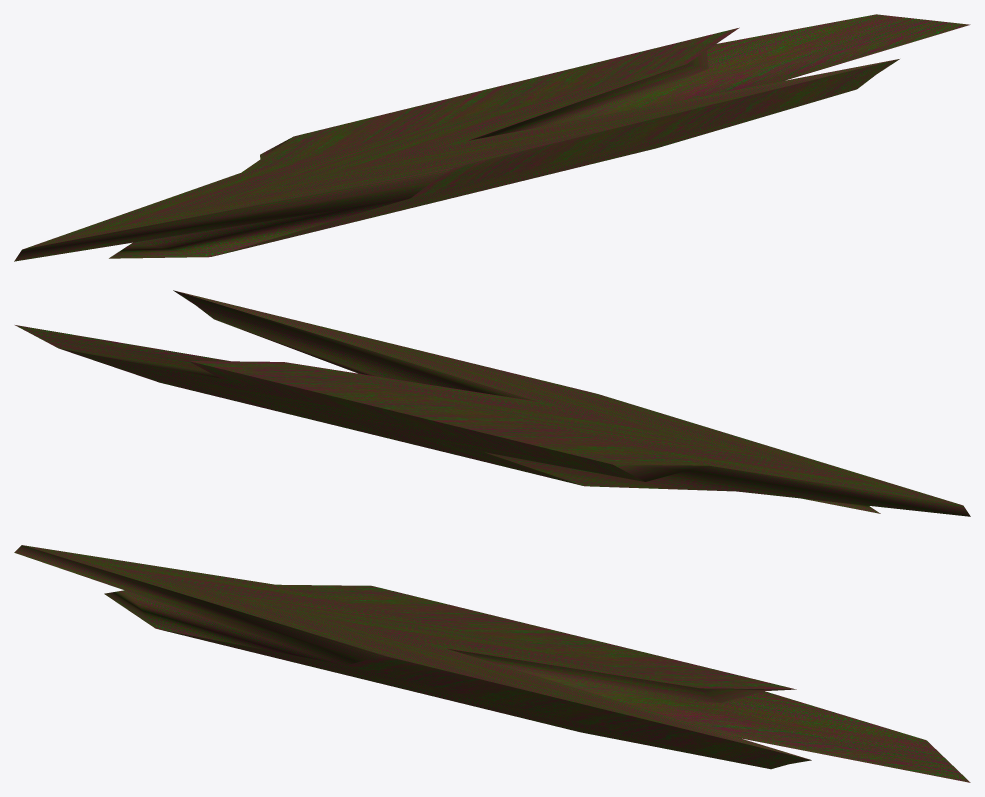
File: platform.FBX
The picture shows the model from 3 angles, top to bottom: view 1: azimuth 30°, elevation 25°; view 2: azimuth 150°, elevation 25°; view 3: azimuth 330°, elevation 25°; orthographic projection. The views are drawn at different scales.
Parts seen in each view (by area): view 1: Box001; view 2: Box001; view 3: Box001.
Boxes of the visible parts, x1,y1,x2,y2 form: Box001: (14, 14, 970, 261); Box001: (15, 290, 970, 516); Box001: (14, 545, 970, 782).
Bounding box in the file's own units: 0.2 × 0.0255 × 0.00586.
Materials: 1 (1 with a texture image).
